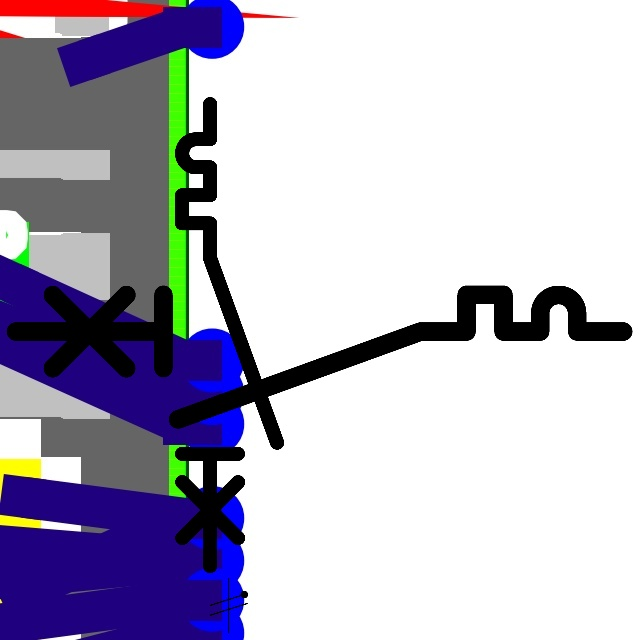interruptor_termomagnetico: (0, 279, 639, 435), (170, 92, 289, 578)
